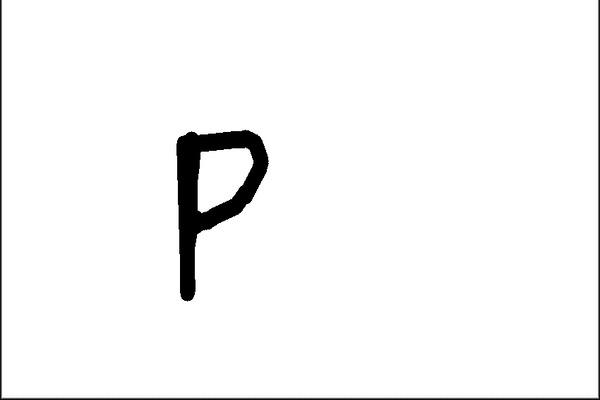P: (152, 122, 282, 305)
